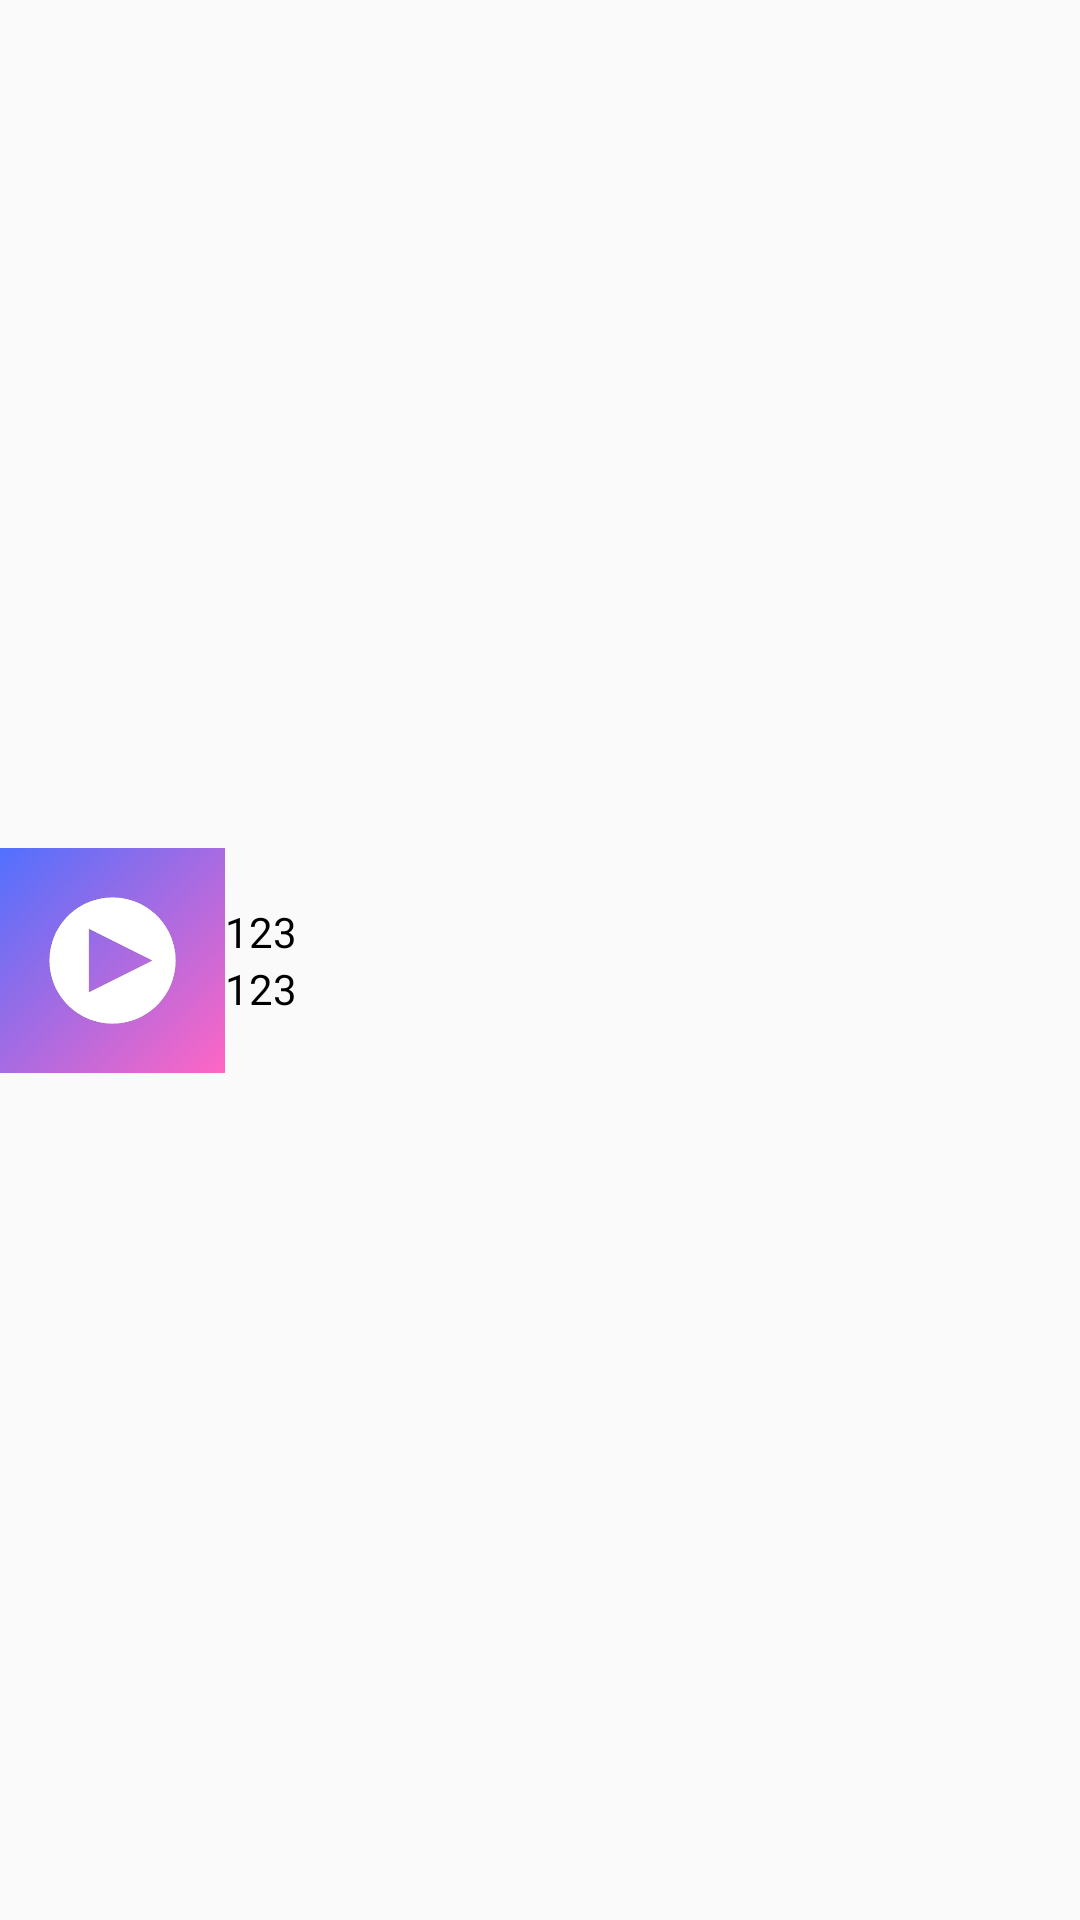

Icons on this 1080 x 1920 Android screen, each with its box as (x1, y1, x2, y2):
item placeholder: (0, 848, 225, 1073)
